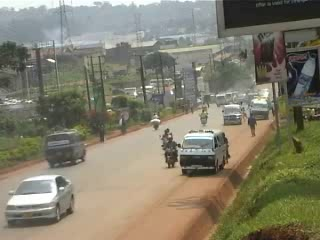Motorcycle: (162, 144, 177, 169), (159, 133, 172, 149), (200, 113, 209, 127)
